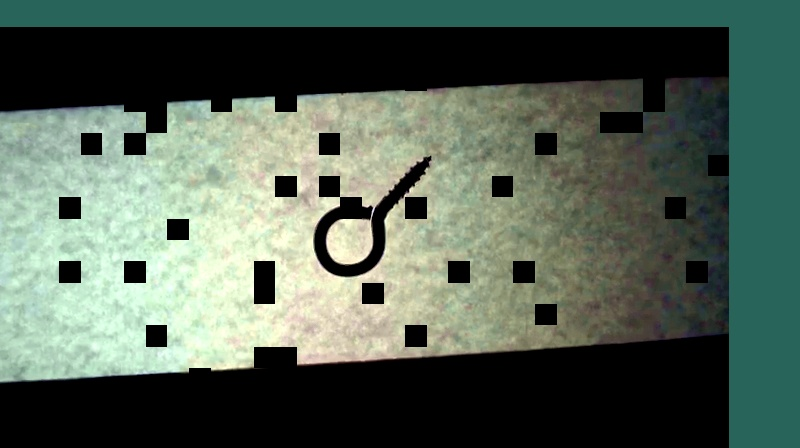O001: (307, 146, 437, 278)
